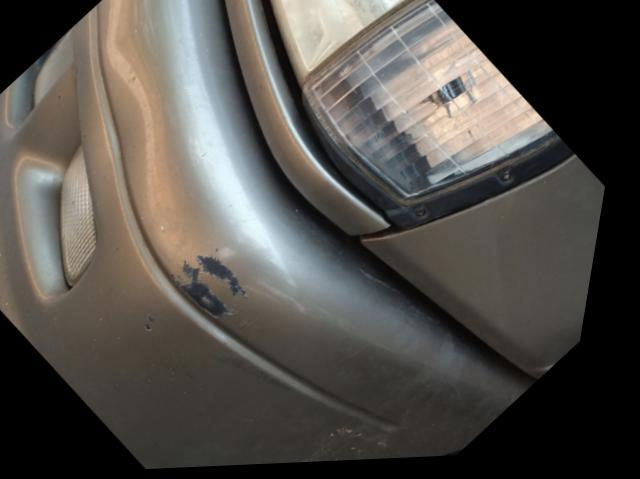scratch: (172, 247, 258, 322), (153, 314, 167, 335)
